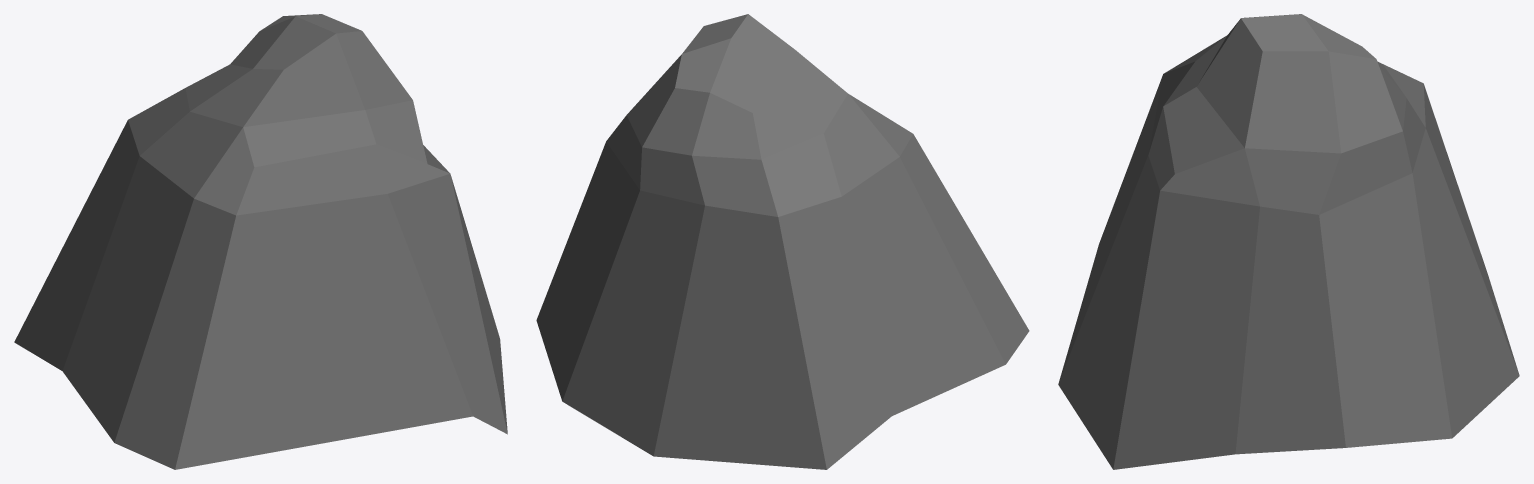
Rendered from M_Rock_Obstacle_1.fbx.
3 views of the same model, side by side, from view 1: azimuth 30°, elevation 25°; view 2: azimuth 150°, elevation 25°; view 3: azimuth 270°, elevation 25° (orthographic). The views are drawn at different scales.
Parts seen in each view (by area): view 1: M_Rock_Obstacle_1; view 2: M_Rock_Obstacle_1; view 3: M_Rock_Obstacle_1.
Boxes of the visible parts, x1,y1,x2,y2 form: M_Rock_Obstacle_1: (14, 14, 507, 469); M_Rock_Obstacle_1: (536, 14, 1029, 469); M_Rock_Obstacle_1: (1058, 14, 1519, 469).
Size of the model in its own units: 612 by 531 by 560.
